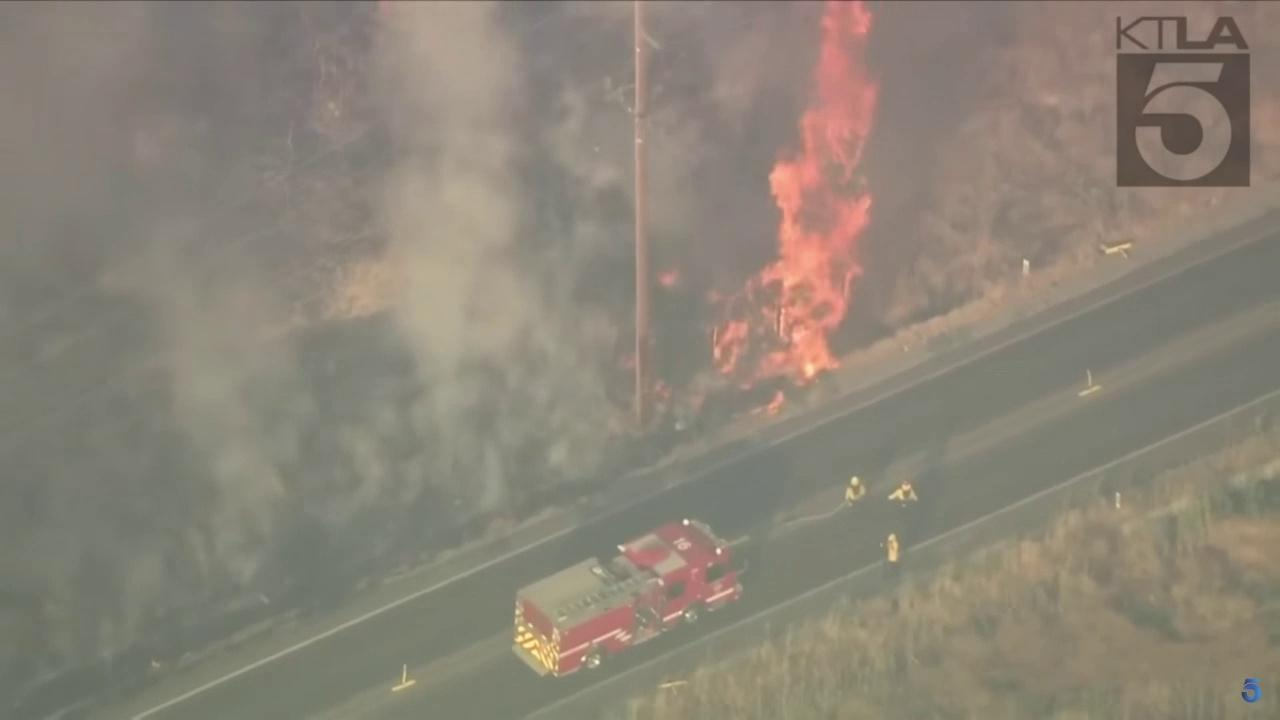fire: (709, 0, 880, 416), (652, 265, 682, 292), (653, 381, 672, 400)
smoke: (0, 0, 850, 720)
